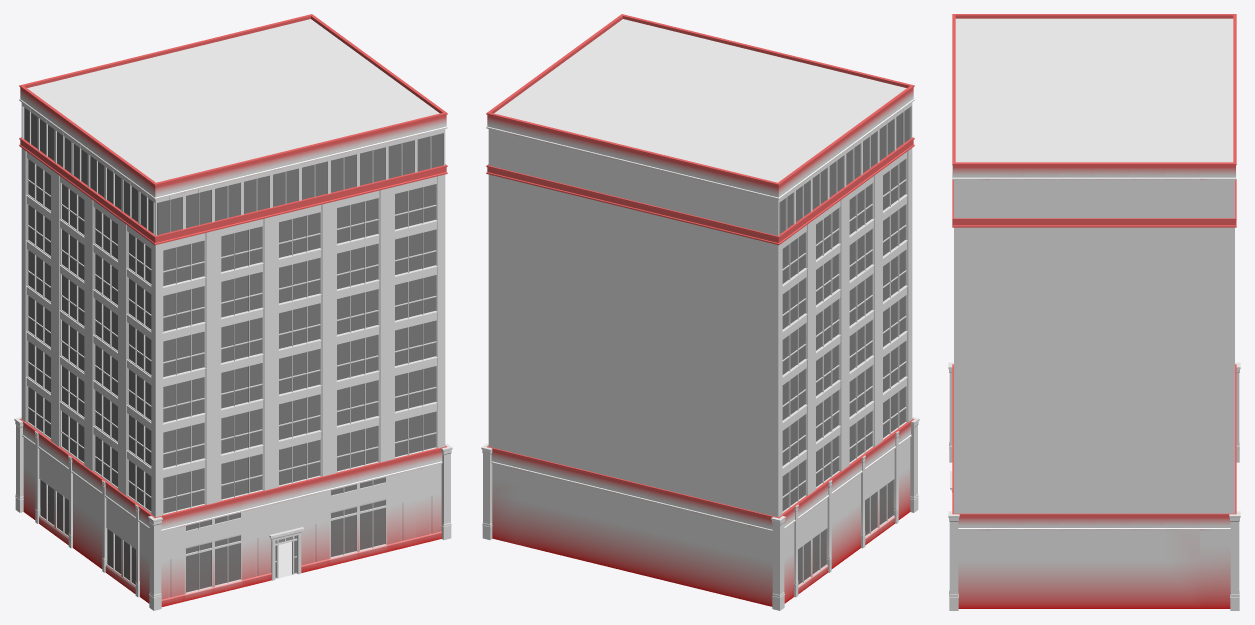
Rendered from Building_Large_2.gltf.
3 renders of one model, left to right at view 1: azimuth 30°, elevation 25°; view 2: azimuth 150°, elevation 25°; view 3: azimuth 270°, elevation 25°, orthographic. The views are drawn at different scales.
Visible parts, largest first — view 1: Building_Large_2; view 2: Building_Large_2; view 3: Building_Large_2.
Boxes of the visible parts, box(x1,y1,x2,y2) form: Building_Large_2: box(14, 14, 452, 610); Building_Large_2: box(481, 14, 919, 610); Building_Large_2: box(948, 14, 1240, 610).
Bounding box in the file's own units: 20.64 × 28 × 16.64.
